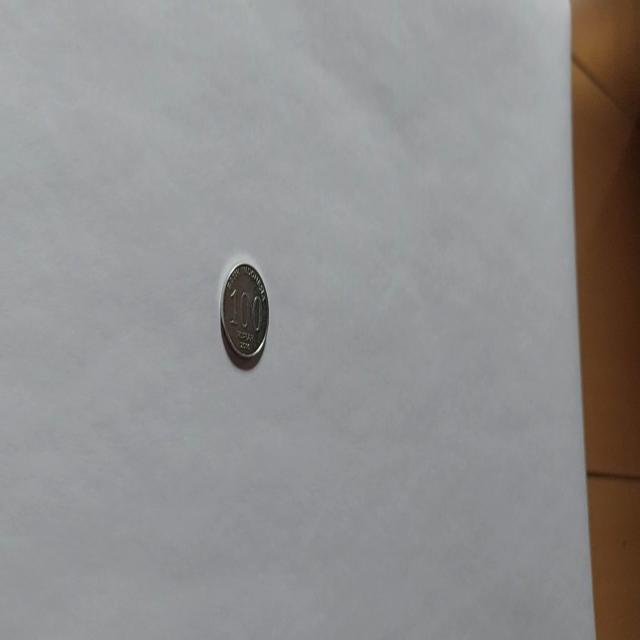seratus rupiah: (218, 260, 270, 368)
